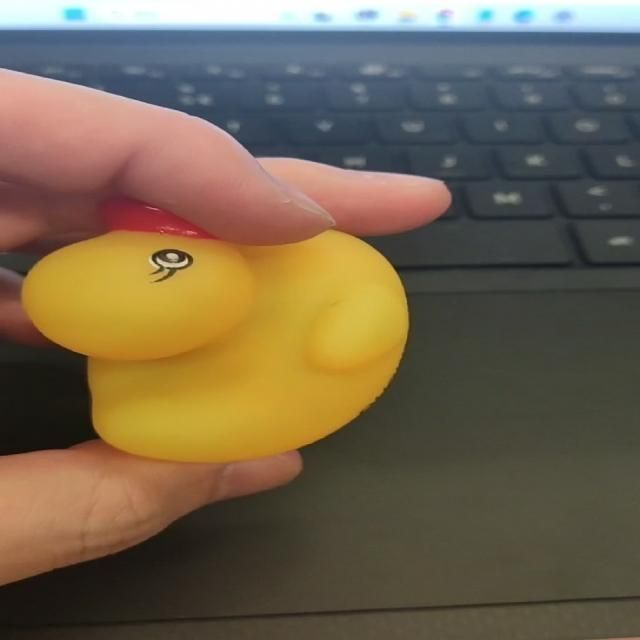rubber-duck: (21, 202, 406, 460)
